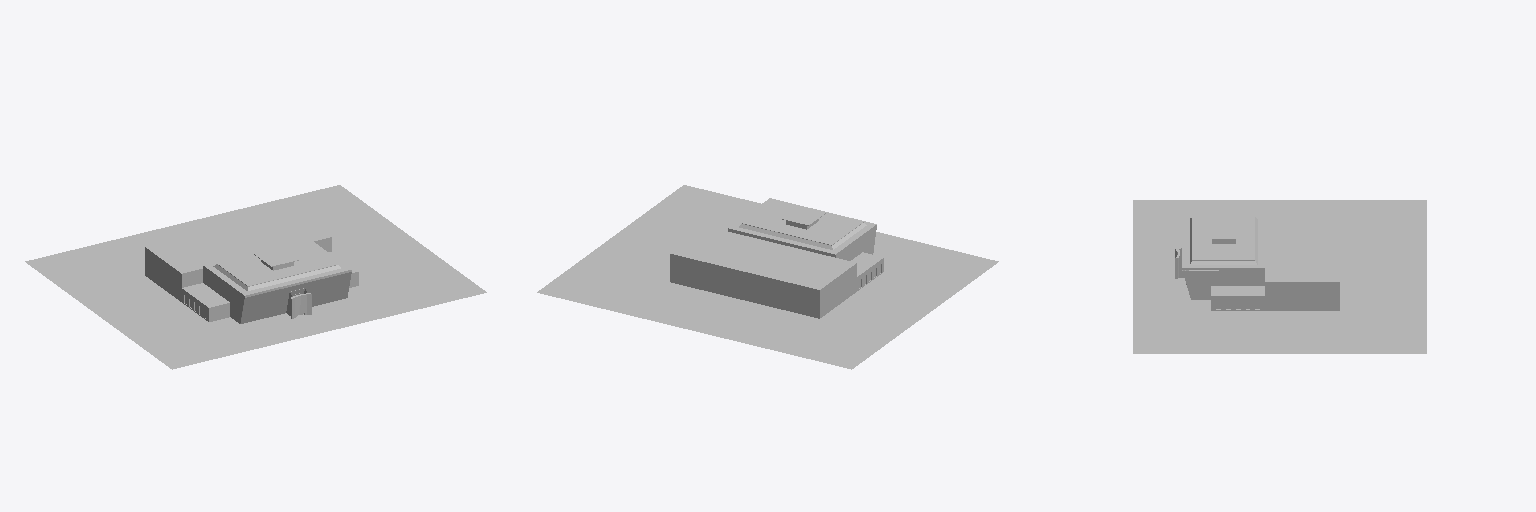
Rendered from showroom_bez_vsetkeho.obj.
The picture shows the model from 3 angles: view 1: azimuth 30°, elevation 25°; view 2: azimuth 150°, elevation 25°; view 3: azimuth 270°, elevation 25°; orthographic projection.
Parts seen in each view (by area): view 1: Mesh167 Model; view 2: Mesh167 Model; view 3: Mesh167 Model.
Part boxes in pixels (bbox=[...]): Mesh167 Model: bbox=[25, 185, 486, 369]; Mesh167 Model: bbox=[537, 185, 998, 369]; Mesh167 Model: bbox=[1133, 200, 1426, 353].
Size of the model in its own units: 73.56 by 9.47 by 59.54.